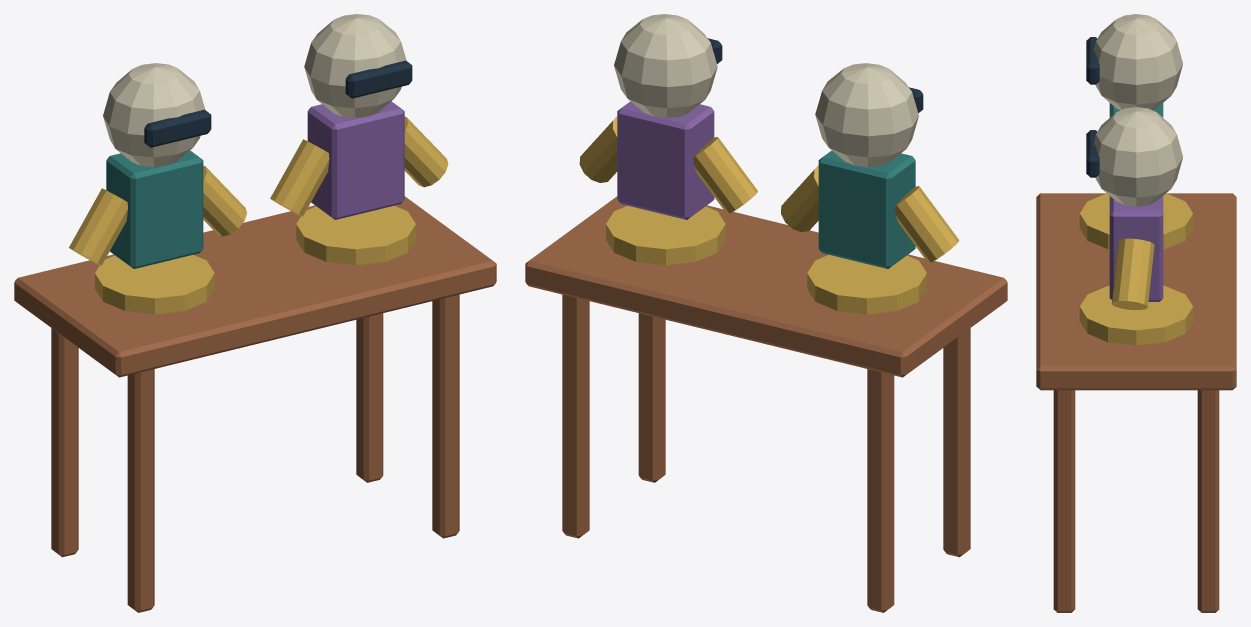
File: figures.glb
3 views of the same model, side by side, from view 1: azimuth 30°, elevation 25°; view 2: azimuth 150°, elevation 25°; view 3: azimuth 270°, elevation 25° (orthographic). The views are drawn at different scales.
Parts seen in each view (by area): view 1: Base, Target0, Target1; view 2: Base, Target0, Target1; view 3: Base, Target1, Target0.
Part boxes in pixels (x1=…): Base: x1=14, y1=196, x2=496, y2=612; Target0: x1=69, y1=63, x2=246, y2=314; Target1: x1=270, y1=14, x2=448, y2=265; Base: x1=525, y1=196, x2=1007, y2=612; Target0: x1=781, y1=63, x2=959, y2=314; Target1: x1=579, y1=14, x2=757, y2=265; Base: x1=1036, y1=193, x2=1236, y2=612; Target1: x1=1079, y1=107, x2=1193, y2=345; Target0: x1=1079, y1=14, x2=1193, y2=249.
Bounding box in the file's own units: 1.25 × 1.57 × 0.6.
